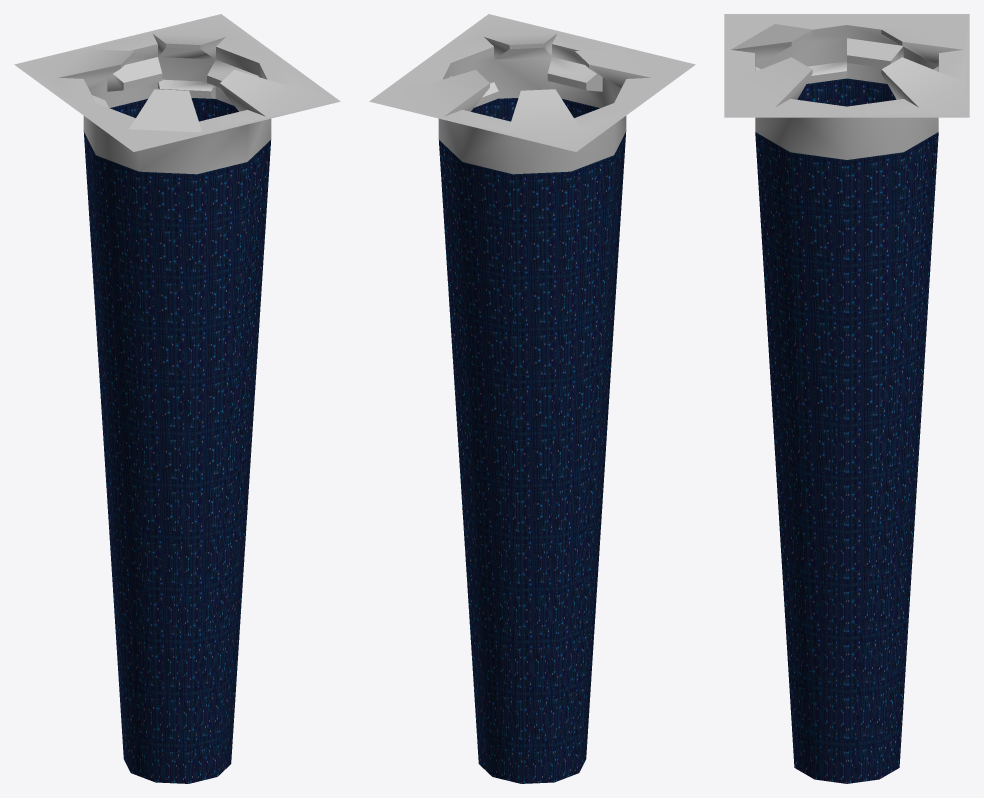
Rendered from desmlhc1.fbx.
3 renders of one model, left to right at view 1: azimuth 30°, elevation 25°; view 2: azimuth 150°, elevation 25°; view 3: azimuth 270°, elevation 25°, orthographic. The views are drawn at different scales.
Visible parts, largest first — view 1: desmlh01; view 2: desmlh01; view 3: desmlh01.
Boxes of the visible parts, left/top/right/bottom form: desmlh01: left=14, top=14, right=340, bottom=783; desmlh01: left=369, top=14, right=695, bottom=783; desmlh01: left=724, top=14, right=969, bottom=783.
Size of what is drawn, in the model's own units: 64 by 205 by 64.
